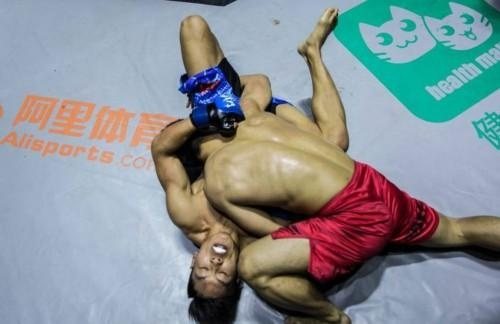falling: (124, 3, 489, 319)
